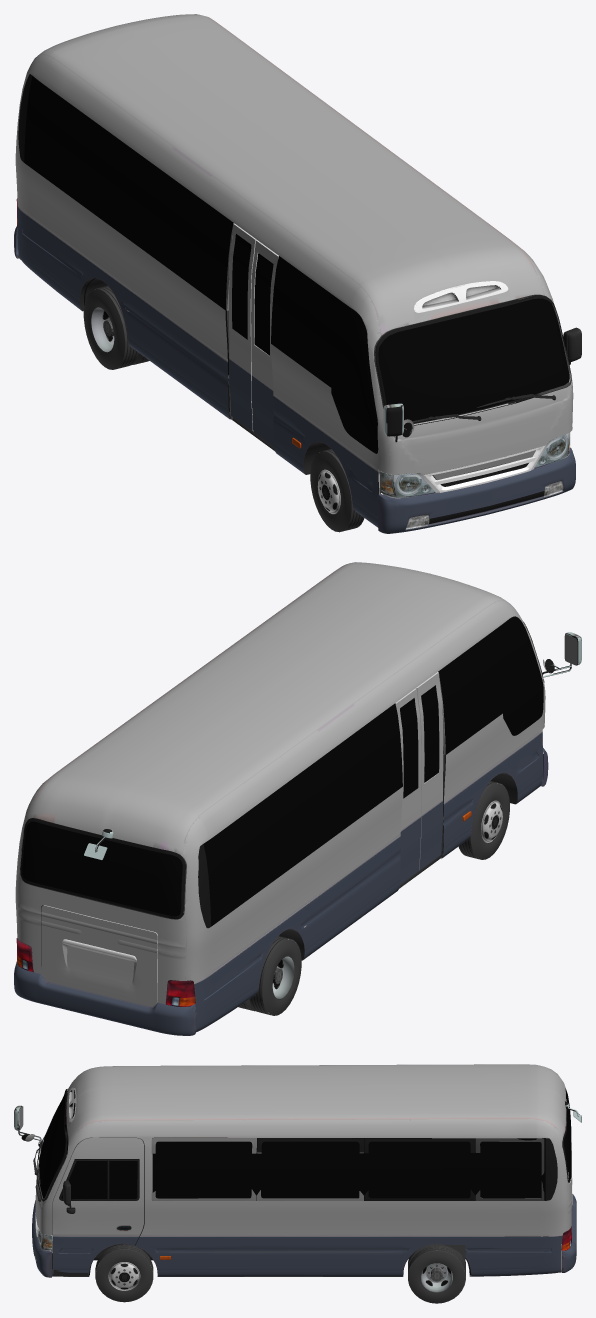
File: 2017_hyundai_county1.glb
3 renders of one model, top to bottom at view 1: azimuth 30°, elevation 25°; view 2: azimuth 150°, elevation 25°; view 3: azimuth 270°, elevation 25°, orthographic. The views are drawn at different scales.
Visible parts, largest first — view 1: son_xe.001, kinh_xe.001, combinedSessio4an_0_0, runtitled1.001, cua_phu.004, funtitled1.001, cua_phu.003, combinedSessio5cn_0_0, combinedSessio4fn_0_0, Model0.026, cua_phu, Combined_ (+1 smaller); view 2: son_xe.001, kinh_xe.001, cop_sau, combinedSessio4an_0_0, runtitled1.001, cua_phu.003, funtitled1.001, cua_phu.004, combinedSessio4fn_0_0, cua_phu, kinh_den.001, combinedSessio5cn_0_0; view 3: son_xe.001, kinh_xe.001, DFL, combinedSessio4an_0_0, runtitled1.003, funtitled1, DFL (3), combinedSessio4gn_0_0, combinedSessio4fn_0_0, combinedSessio5cn_0_0.
Boxes of the visible parts, <box> form: son_xe.001: <box>14,14,575,533</box>; kinh_xe.001: <box>24,76,569,453</box>; combinedSessio4an_0_0: <box>83,223,572,494</box>; runtitled1.001: <box>83,286,149,369</box>; cua_phu.004: <box>228,224,254,431</box>; funtitled1.001: <box>310,449,364,532</box>; cua_phu.003: <box>251,240,278,446</box>; combinedSessio5cn_0_0: <box>16,198,569,529</box>; combinedSessio4fn_0_0: <box>18,74,544,523</box>; Model0.026: <box>378,428,572,494</box>; cua_phu: <box>232,234,251,339</box>; Combined_: <box>414,281,508,312</box>; son_xe.001: <box>14,562,548,1035</box>; kinh_xe.001: <box>22,616,543,926</box>; cop_sau: <box>41,905,157,1006</box>; combinedSessio4an_0_0: <box>20,621,581,980</box>; runtitled1.001: <box>238,936,301,1015</box>; cua_phu.003: <box>417,672,443,869</box>; funtitled1.001: <box>458,781,509,859</box>; cua_phu.004: <box>396,689,421,884</box>; combinedSessio4fn_0_0: <box>21,696,517,984</box>; cua_phu: <box>400,698,418,798</box>; kinh_den.001: <box>421,685,439,782</box>; combinedSessio5cn_0_0: <box>16,811,471,1006</box>; son_xe.001: <box>32,1064,576,1277</box>; kinh_xe.001: <box>39,1088,571,1200</box>; DFL: <box>52,1137,143,1276</box>; combinedSessio4an_0_0: <box>14,1089,581,1276</box>; runtitled1.003: <box>408,1244,465,1303</box>; funtitled1: <box>95,1244,153,1302</box>; DFL (3): <box>61,1161,137,1199</box>; combinedSessio4gn_0_0: <box>59,1138,144,1276</box>; combinedSessio4fn_0_0: <box>46,1138,561,1276</box>; combinedSessio5cn_0_0: <box>34,1226,571,1260</box>.
Bounding box in the file's own units: 0.0242 × 0.0267 × 0.0739.
34 materials, 21 textured.
